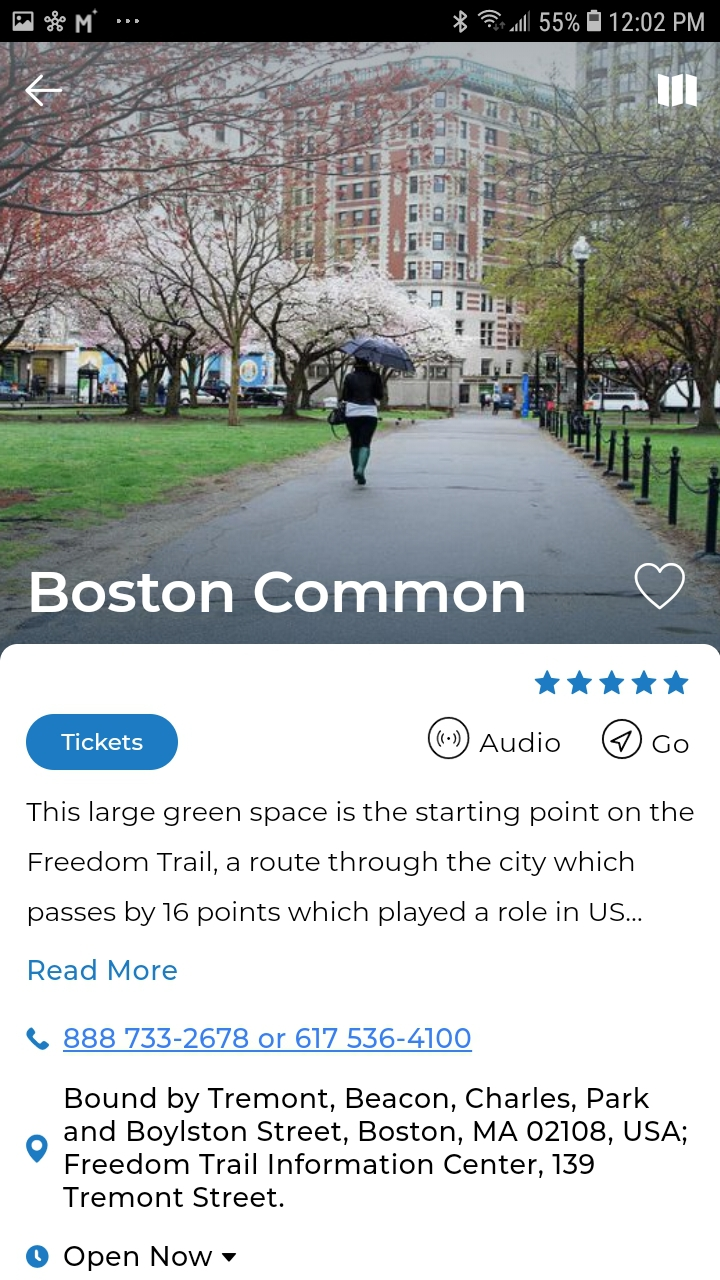Icon: (534, 669, 689, 695), (634, 563, 686, 610), (601, 719, 643, 760), (657, 74, 697, 108), (26, 75, 63, 107), (26, 1134, 49, 1163), (26, 1245, 50, 1269), (222, 1253, 236, 1262)
Image: (1, 43, 720, 644), (427, 717, 470, 760), (26, 1027, 51, 1052)
Text: (26, 800, 693, 927), (64, 1086, 686, 1208), (31, 572, 525, 614), (64, 1027, 472, 1052), (64, 1246, 212, 1272), (29, 959, 178, 981), (479, 732, 561, 753), (652, 734, 689, 754)
TextButton: (26, 714, 179, 771)
UpperTaskBar: (1, 1, 720, 43)
